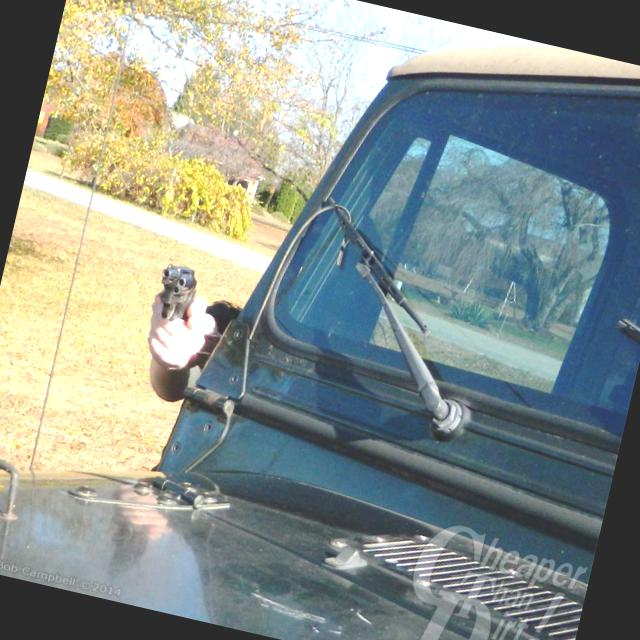handgun: (140, 260, 208, 362)
